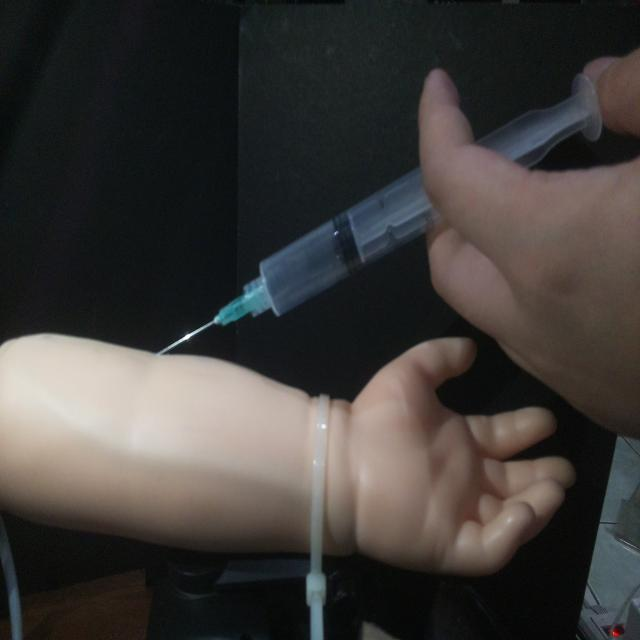25deg: (152, 67, 604, 359)
